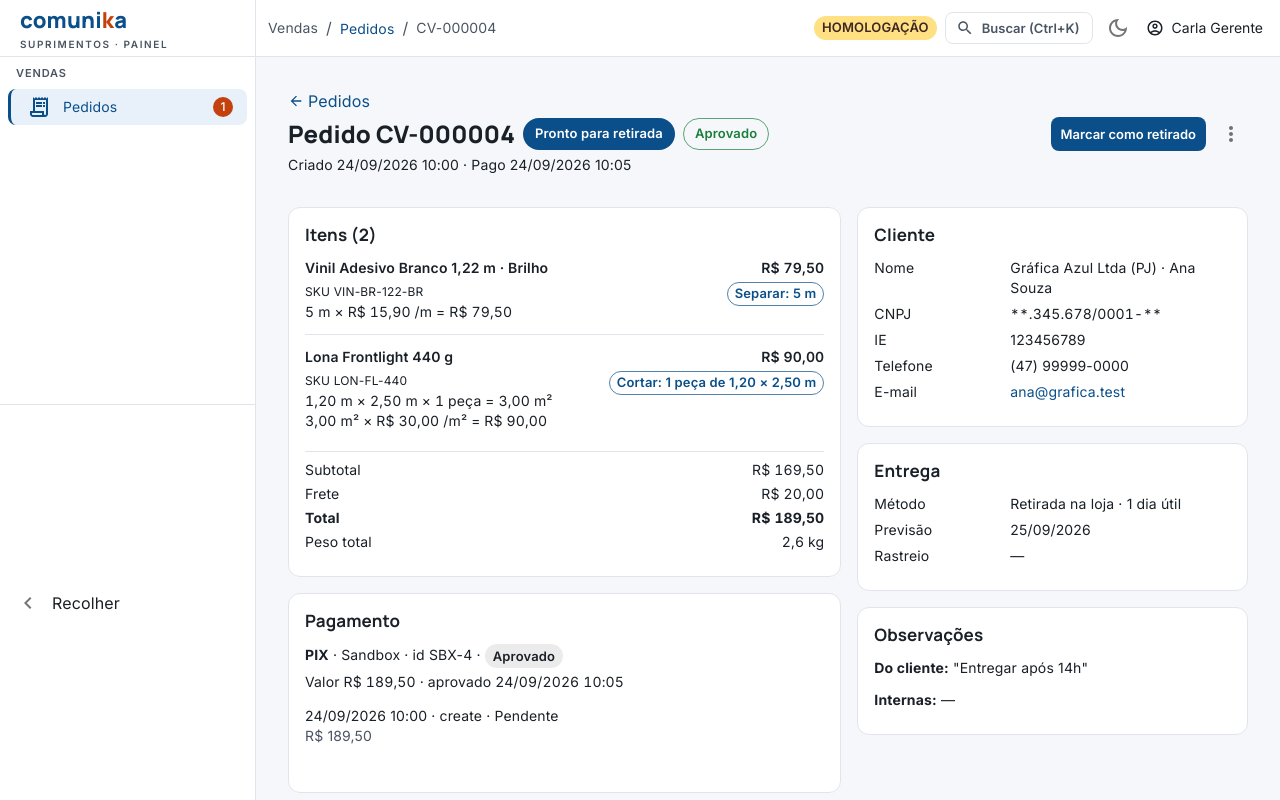
Detalhe do pedido › retirada exige nome e documento e conferência do número
This screenshot has width=1280, height=800.
Click the button "Marcar como retirado".
click(1128, 134)  # box [1051, 117, 1206, 151]
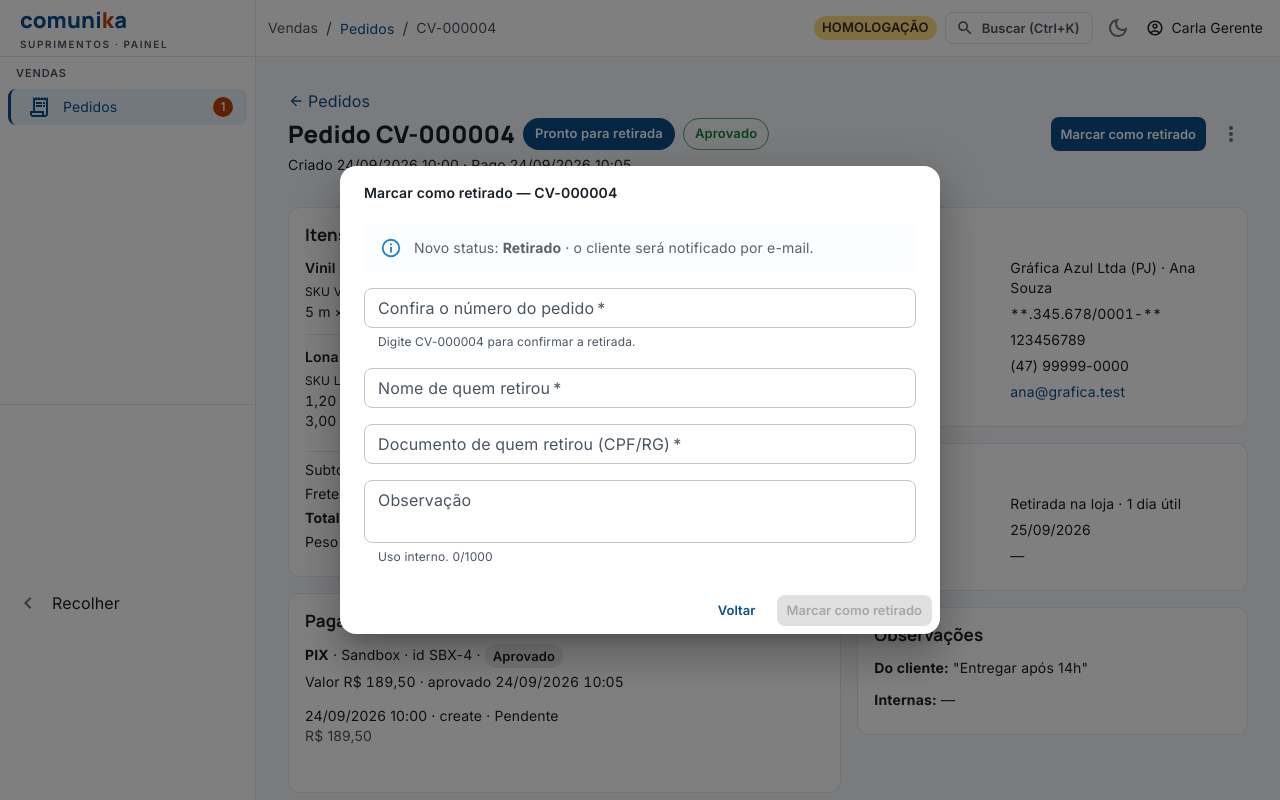
Check: the button "Marcar como retirado" is disabled, box [777, 595, 932, 626]
Type "CV-000004" into the field labelled "Confira o número do pedido *".
click(640, 308); type("CV-000004")  # box [364, 288, 916, 328]
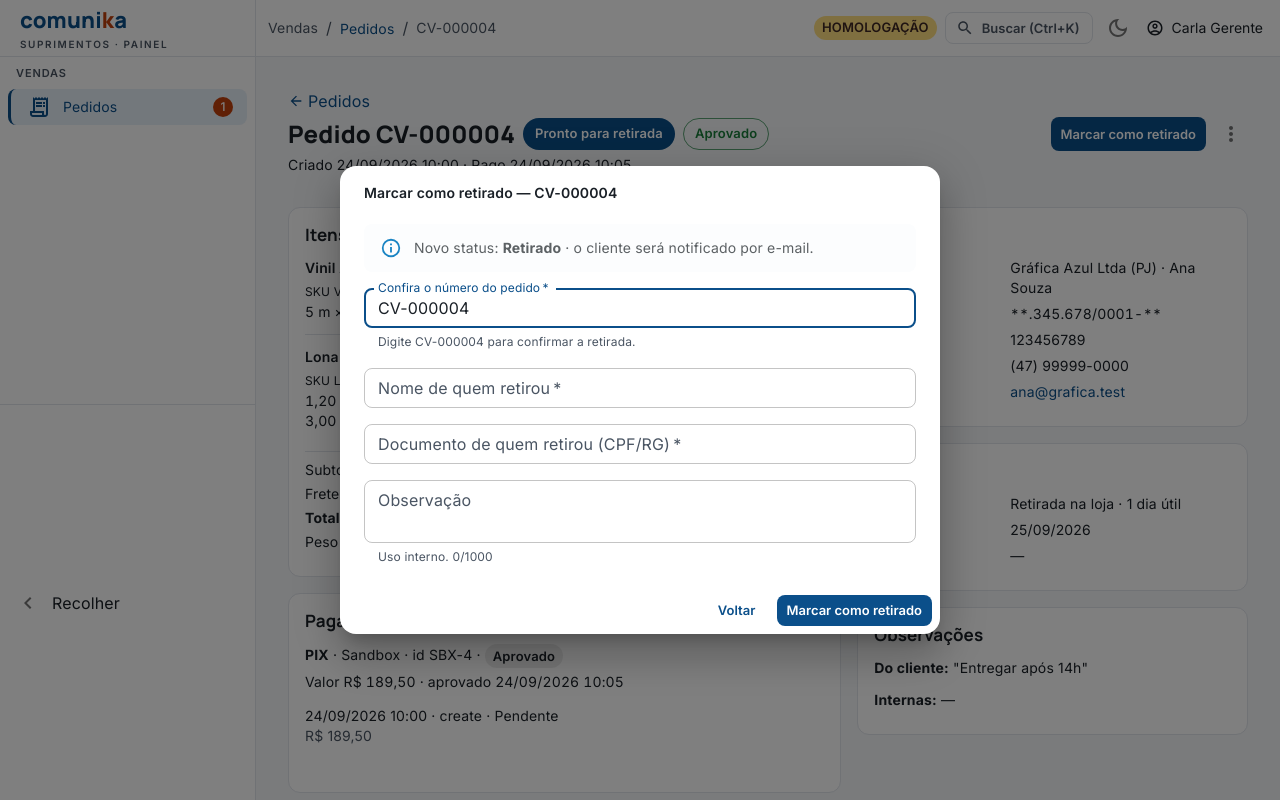
Click the button "Marcar como retirado".
click(854, 611)  # box [777, 595, 932, 626]
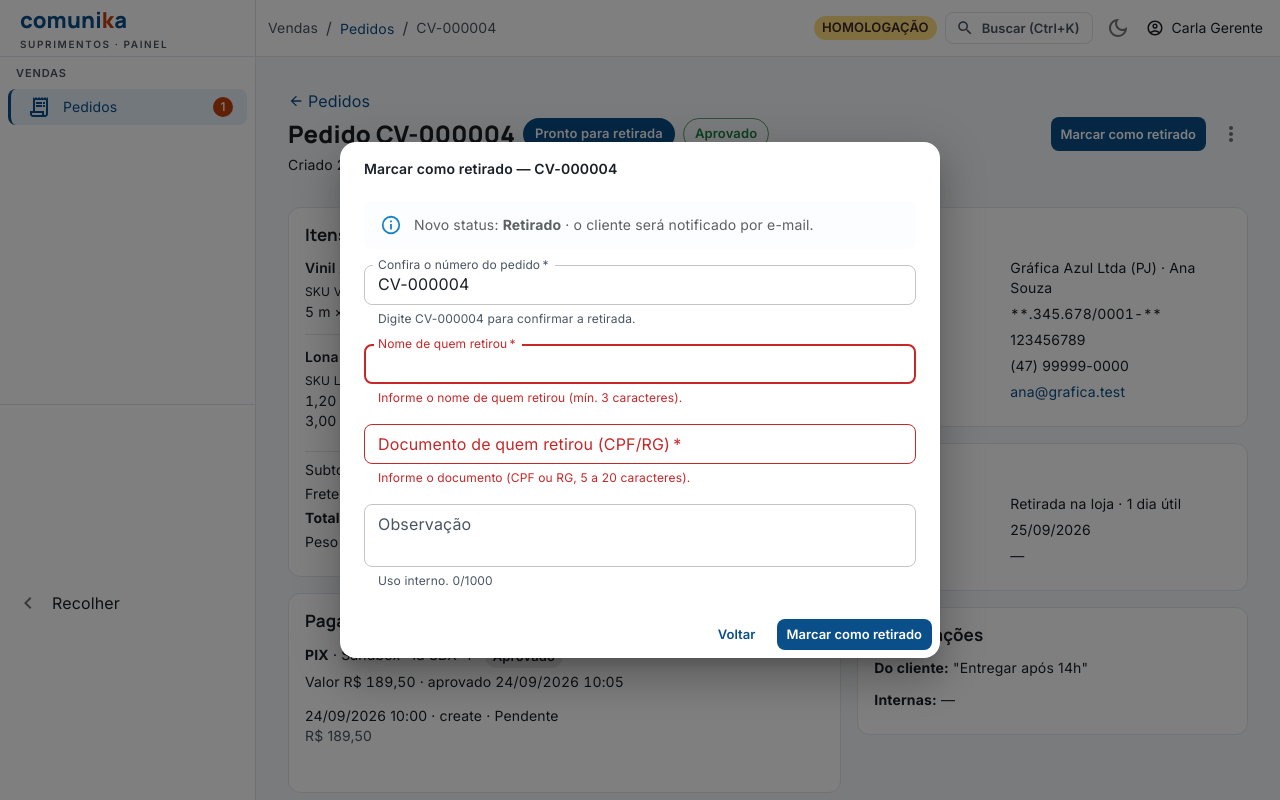
Check: the text "Informe o nome de quem retirou (mín. 3 caracteres)." is shown, box [378, 390, 682, 405]
Check: the text "Informe o documento (CPF ou RG, 5 a 20 caracteres)." is shown, box [378, 470, 690, 485]
